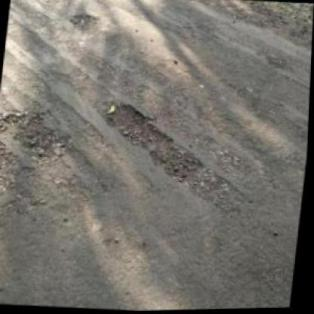Hueco: (91, 99, 213, 188), (0, 106, 74, 166), (67, 10, 104, 38), (0, 138, 25, 176)
